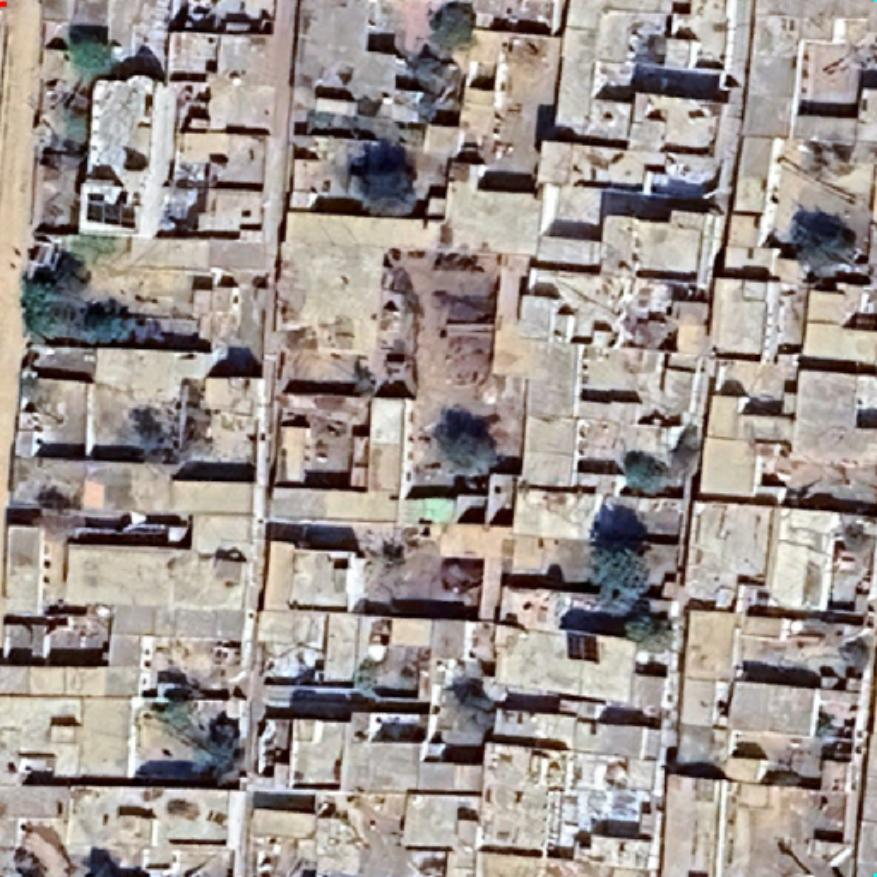Solarpanel: (81, 192, 139, 230), (564, 628, 602, 666)
